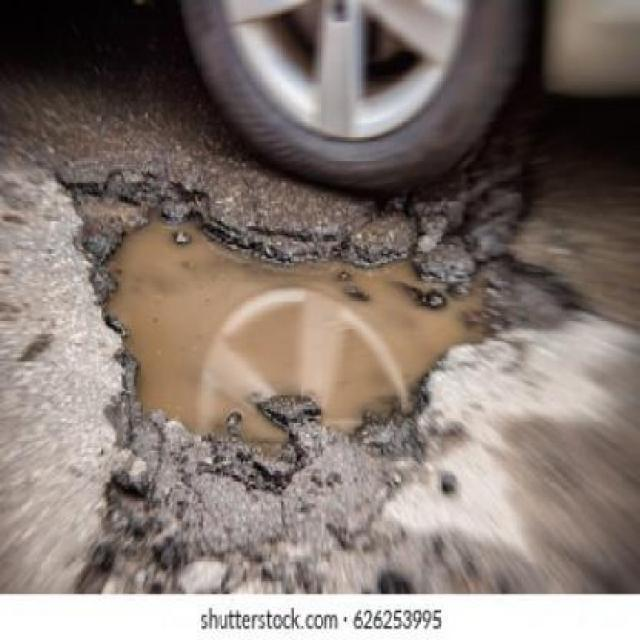Buraco: (49, 140, 597, 594)
